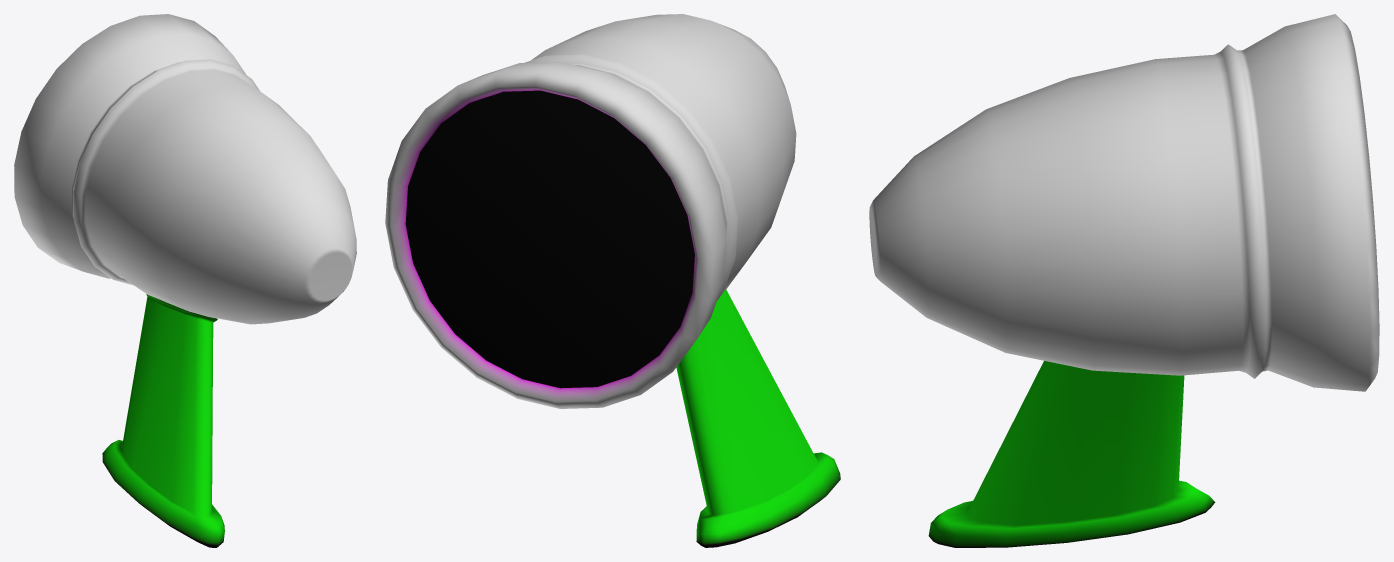
Rendered from Car_Buick_GrandNational_1987_FenderMirrorL_SetXA.fbx.
3 renders of one model, left to right at view 1: azimuth 30°, elevation 25°; view 2: azimuth 150°, elevation 25°; view 3: azimuth 270°, elevation 25°, orthographic. The views are drawn at different scales.
Parts seen in each view (by area): view 1: FenderMirrorL 6; view 2: FenderMirrorL 6; view 3: FenderMirrorL 6.
Part boxes in pixels (bbox=[...]): FenderMirrorL 6: bbox=[14, 14, 356, 547]; FenderMirrorL 6: bbox=[385, 14, 840, 547]; FenderMirrorL 6: bbox=[869, 14, 1379, 547].
Bounding box in the file's own units: 0.1227 × 0.1987 × 0.1666.
